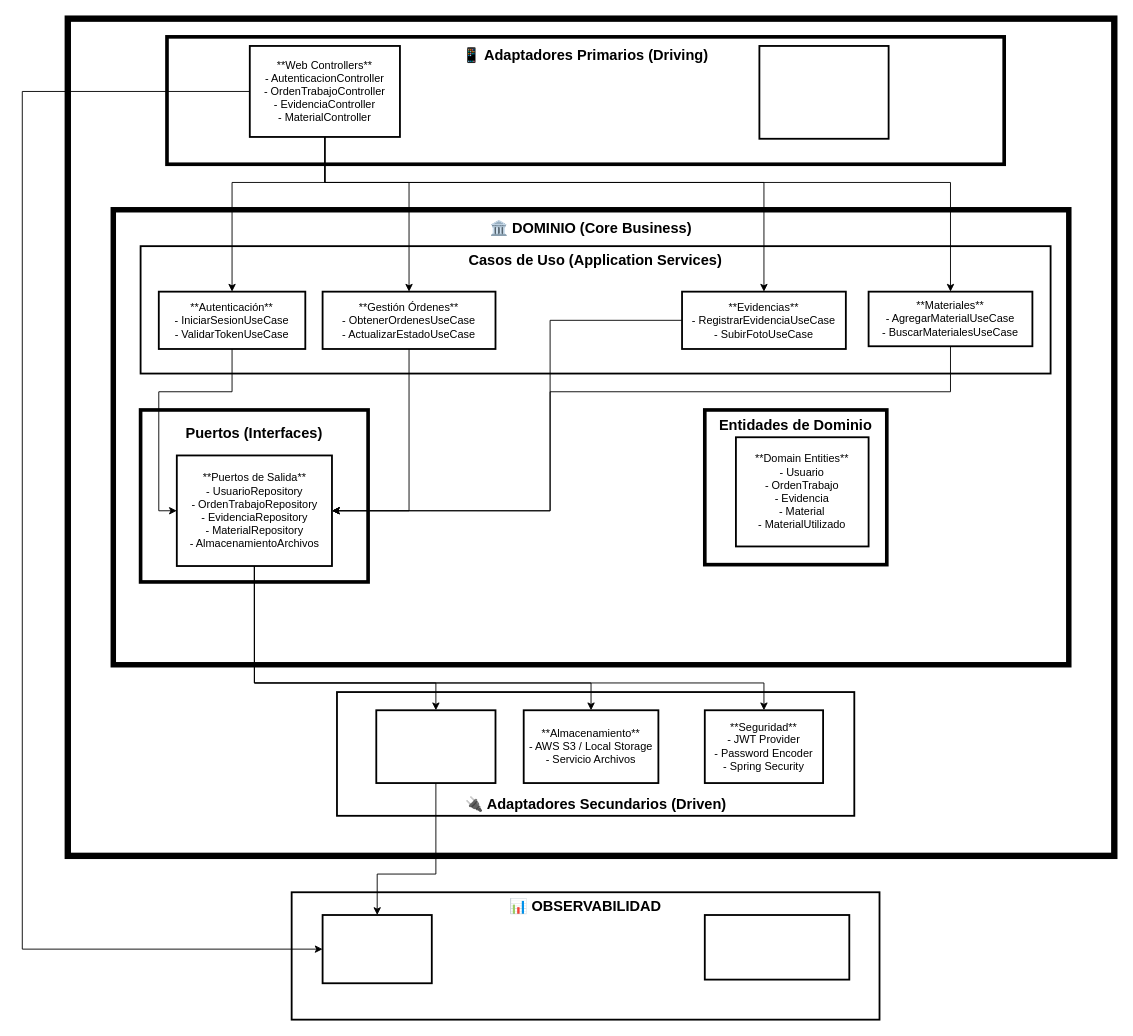
Image size: 1133x1036. Some labels were removed from this diagram. Each missing label, with the centre of its shape:
**Base de Datos** - PostgreSQL - JPA/Hibernate - Repositorios Impl: the point at 435,746
**Documentación** - OpenAPI/Swagger - Configuración API: the point at 823,92
**Logging** - Logback - Structured Logs: the point at 776,947
**Métricas** - Micrometer - Prometheus - Grafana: the point at 376,949
